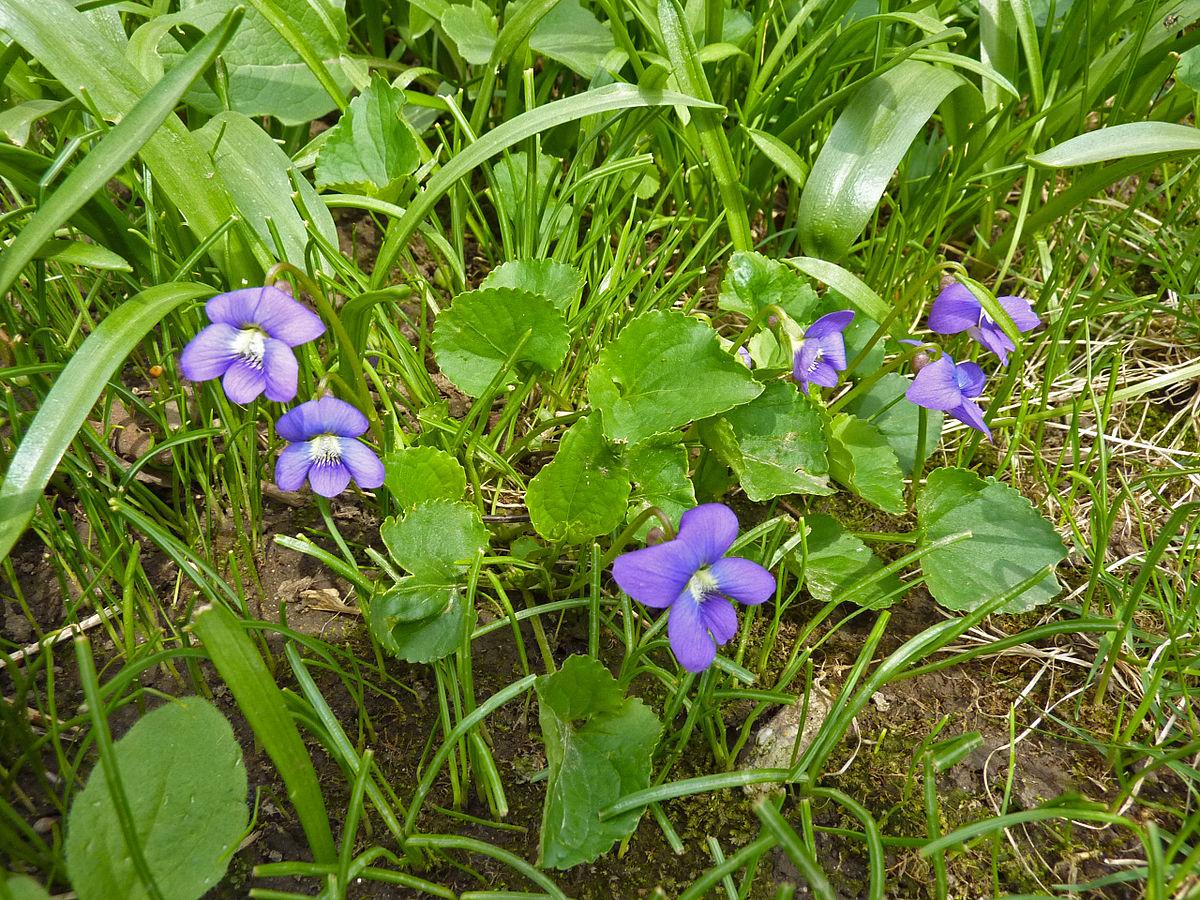violet: (622, 488, 795, 687), (179, 278, 333, 408), (265, 388, 390, 506), (922, 274, 1052, 367), (910, 347, 1008, 440), (756, 308, 856, 390)
